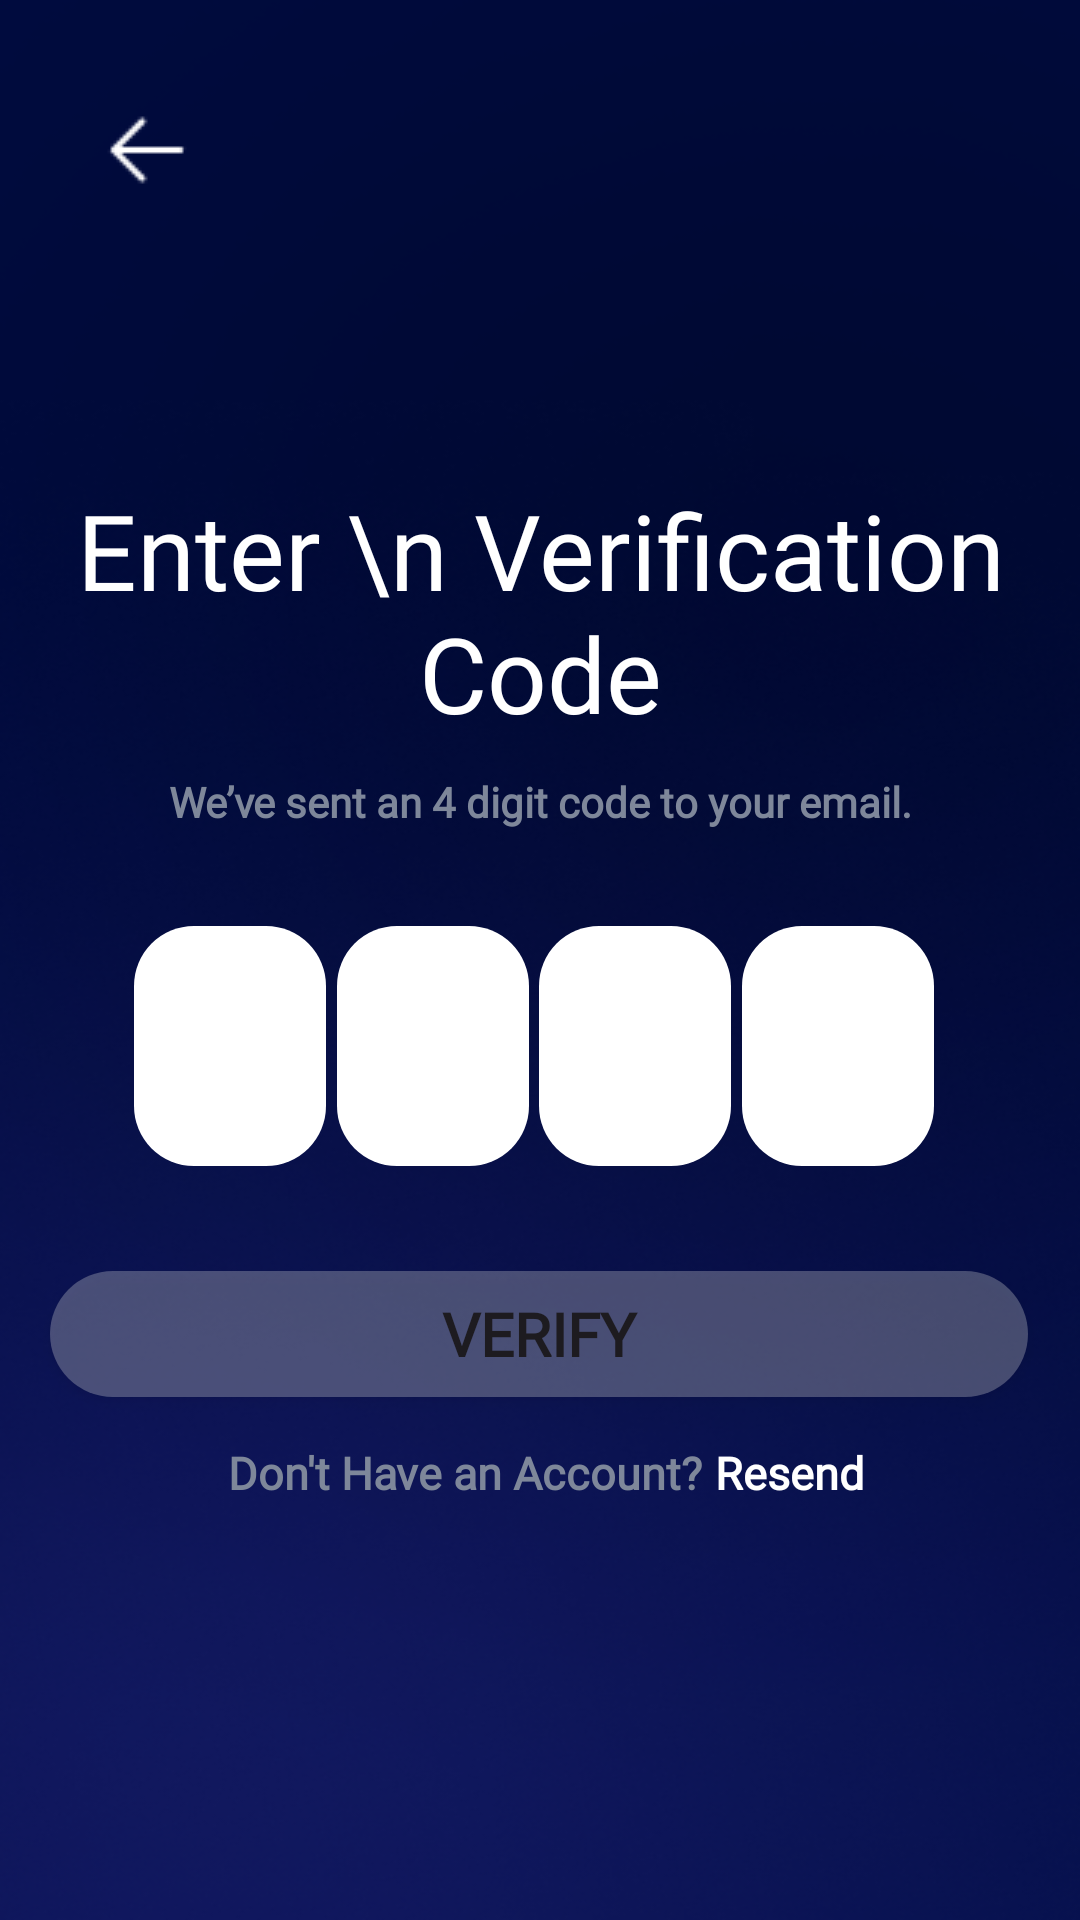

Point at icon controls on the screen. Image size 1080×1920, points as [x,y].
backarrow: [147,150]
